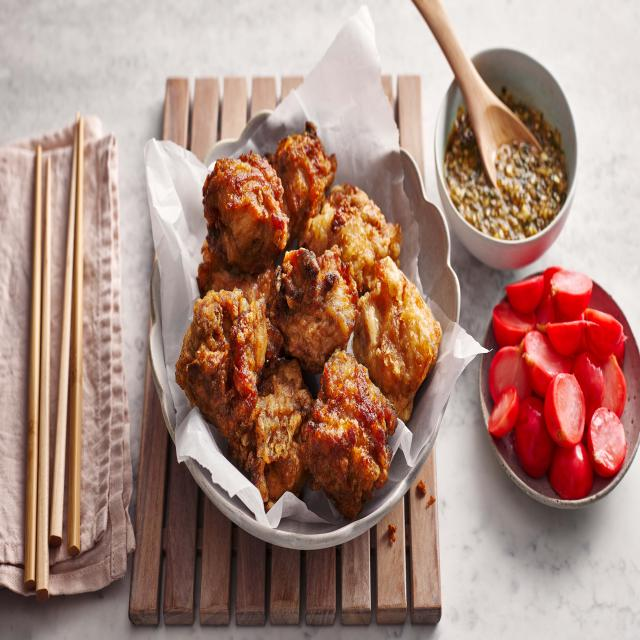Frango: (174, 120, 442, 522)
